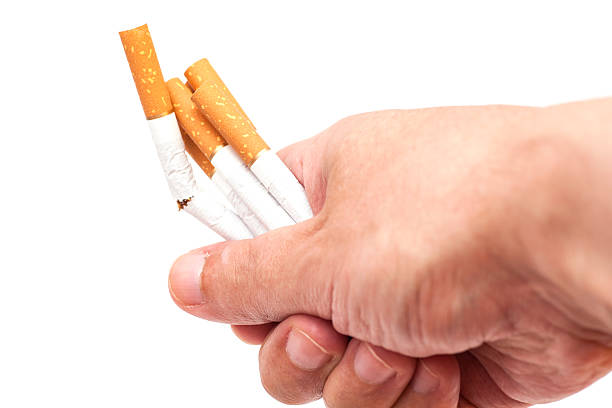cigarette: (116, 21, 258, 240), (164, 76, 295, 228), (190, 81, 316, 222), (178, 121, 269, 235), (184, 57, 259, 133)
